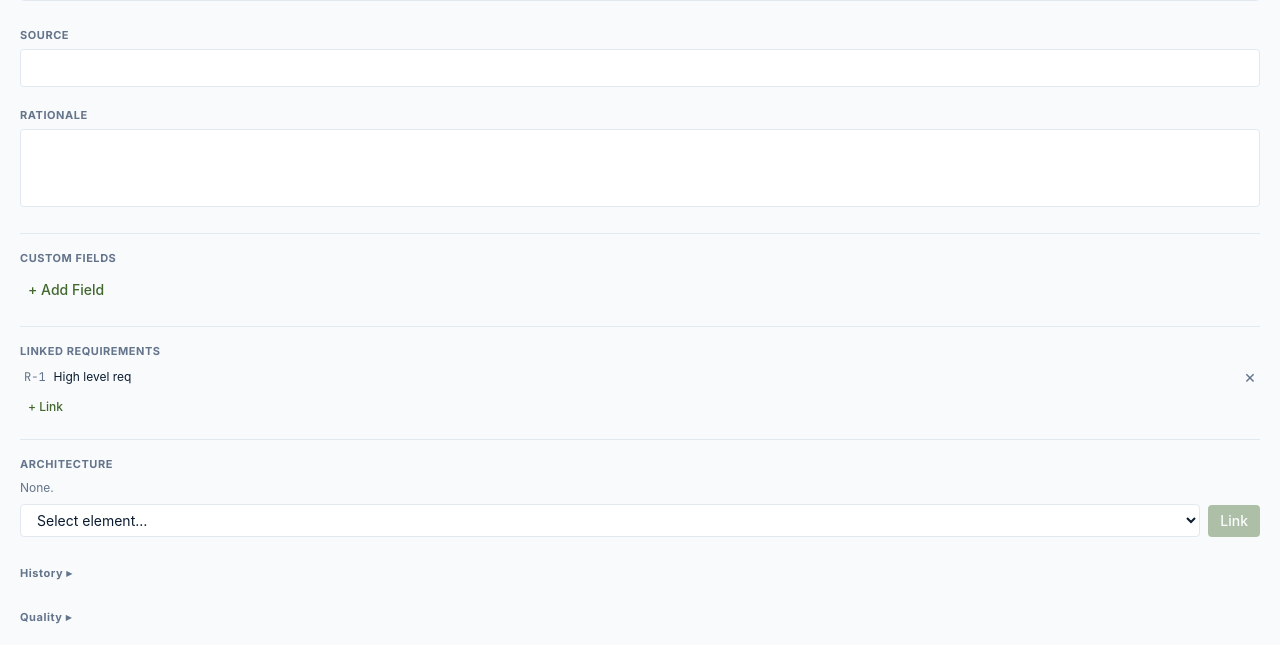
RequirementDetail traceability section › adds a link via the + Link picker (current req stored as parent)
The width and height of the screenshot is (1280, 645).
(page scrolled)
Click the button "+ Link": (46, 407) 20,395 -> 71,419
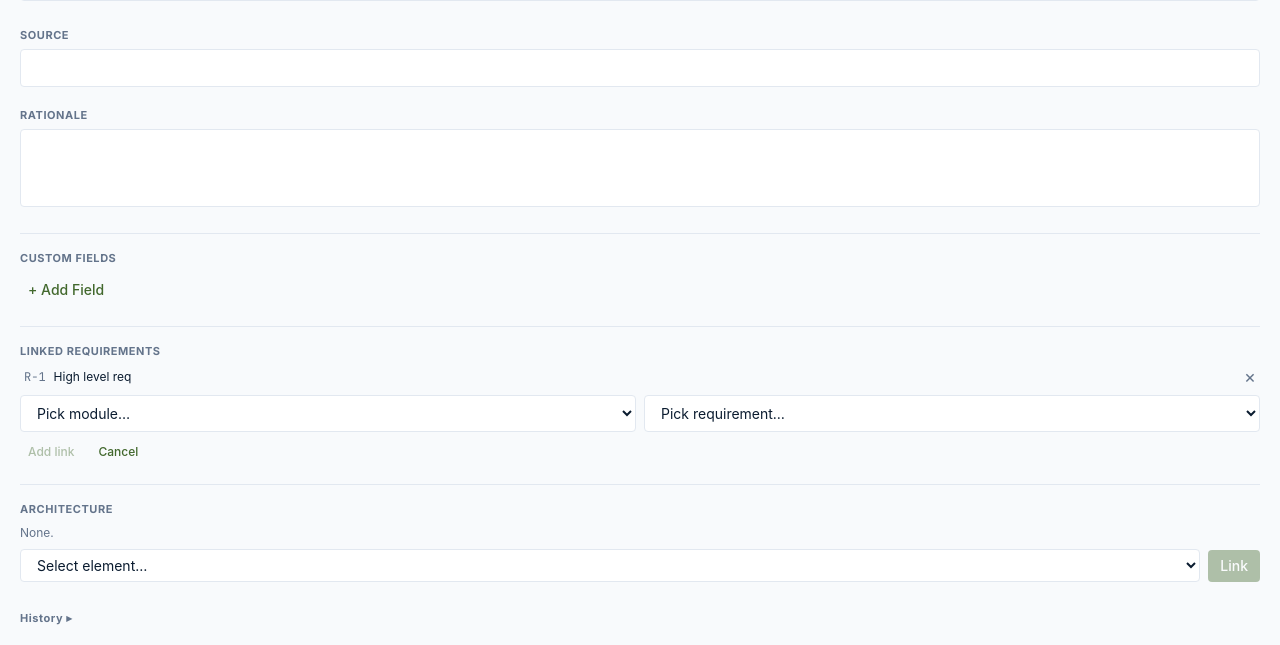
Select "System" in the dropdown named "Link module": (328, 414) 20,395 -> 636,432
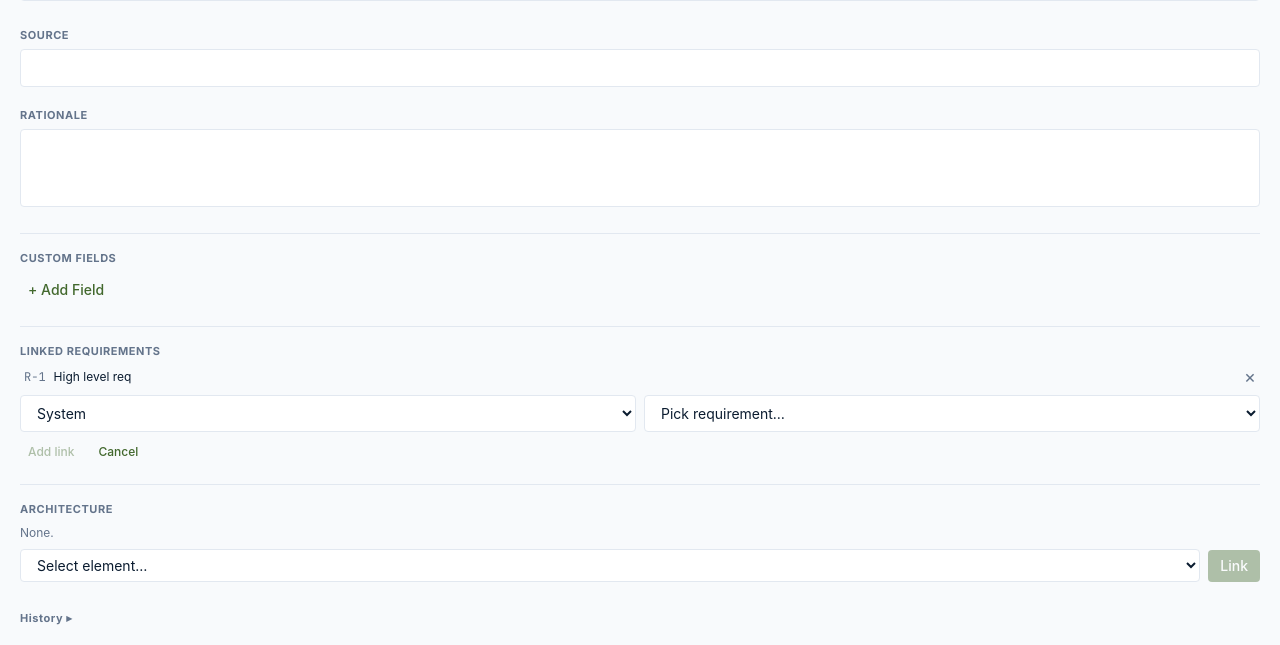
Select "R-3 Unlinked high" in the dropdown named "Link requirement": (952, 414) 644,395 -> 1260,432
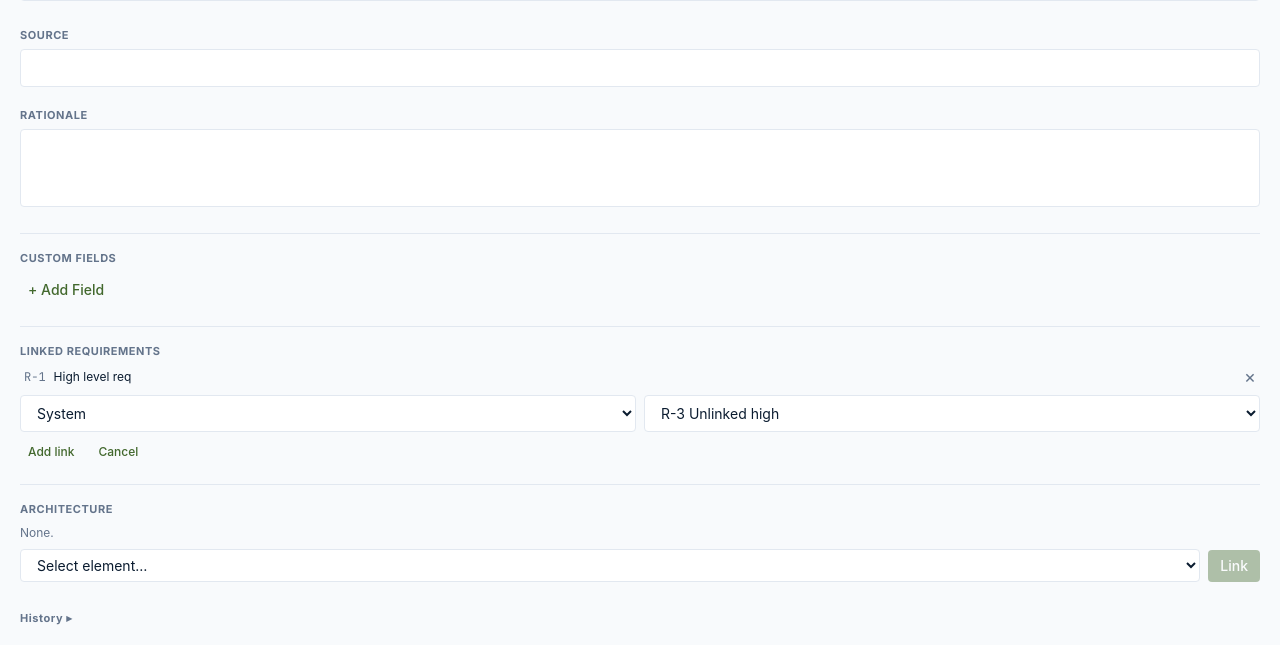
Click the button "Add link": (51, 452) 20,440 -> 82,464
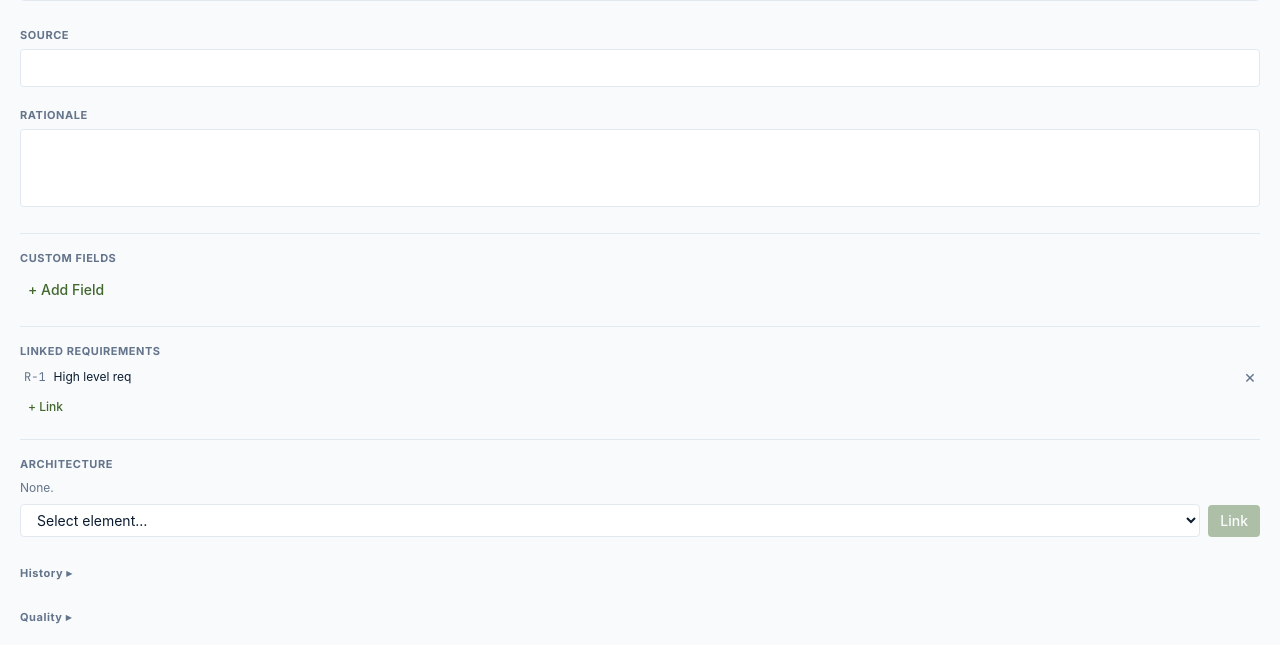
Expected: the button "+ Link" is shown, 20,395 -> 71,419
